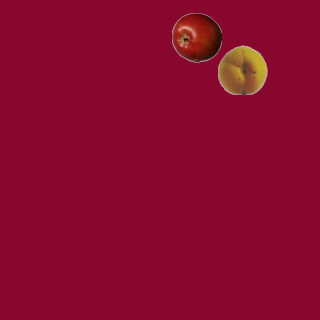Apple Braeburn: (171, 12, 221, 62)
Peach 2: (217, 44, 267, 94)
